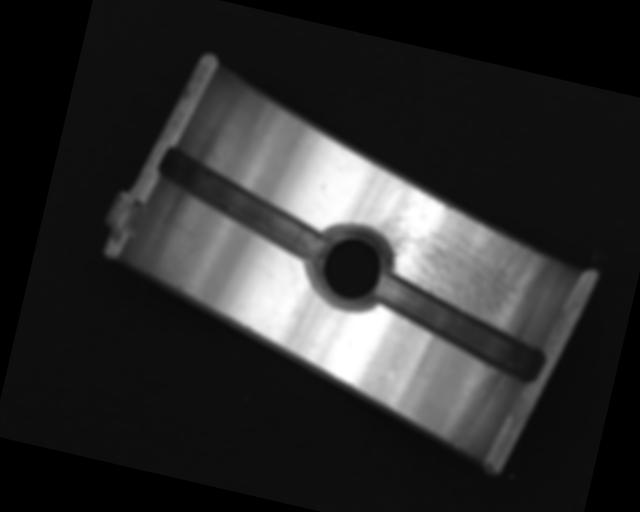gap: (144, 146, 338, 265), (360, 269, 557, 386)
hole: (299, 215, 401, 320)
scratch: (361, 174, 560, 343)
